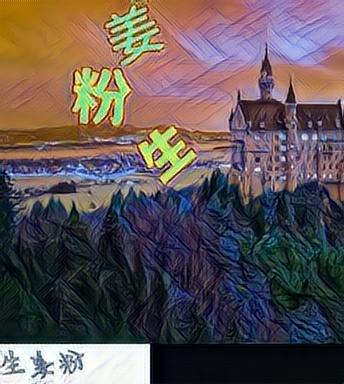B7DB: (68, 64, 130, 128)
BDAA: (104, 4, 166, 68)
C9FA: (134, 120, 196, 184)
